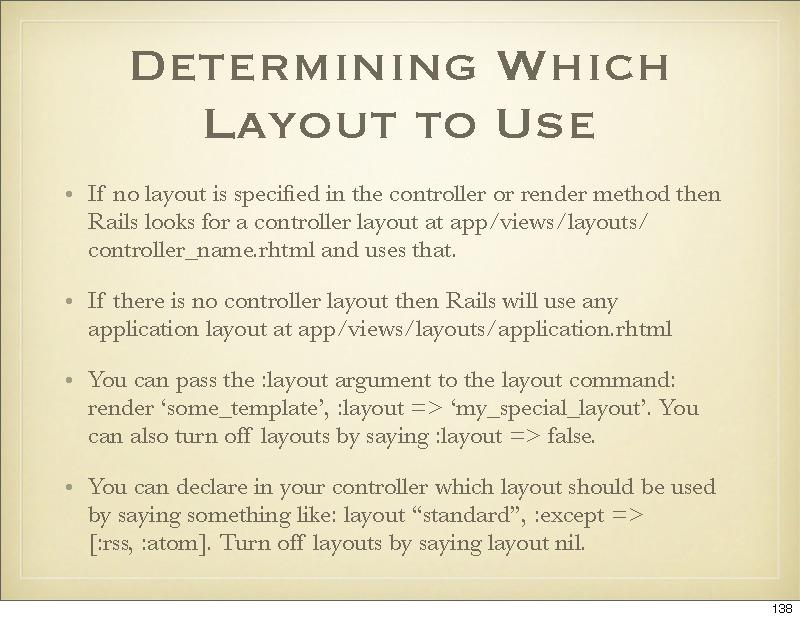paragraph: (62, 167, 745, 576)
title: (121, 37, 679, 153)
